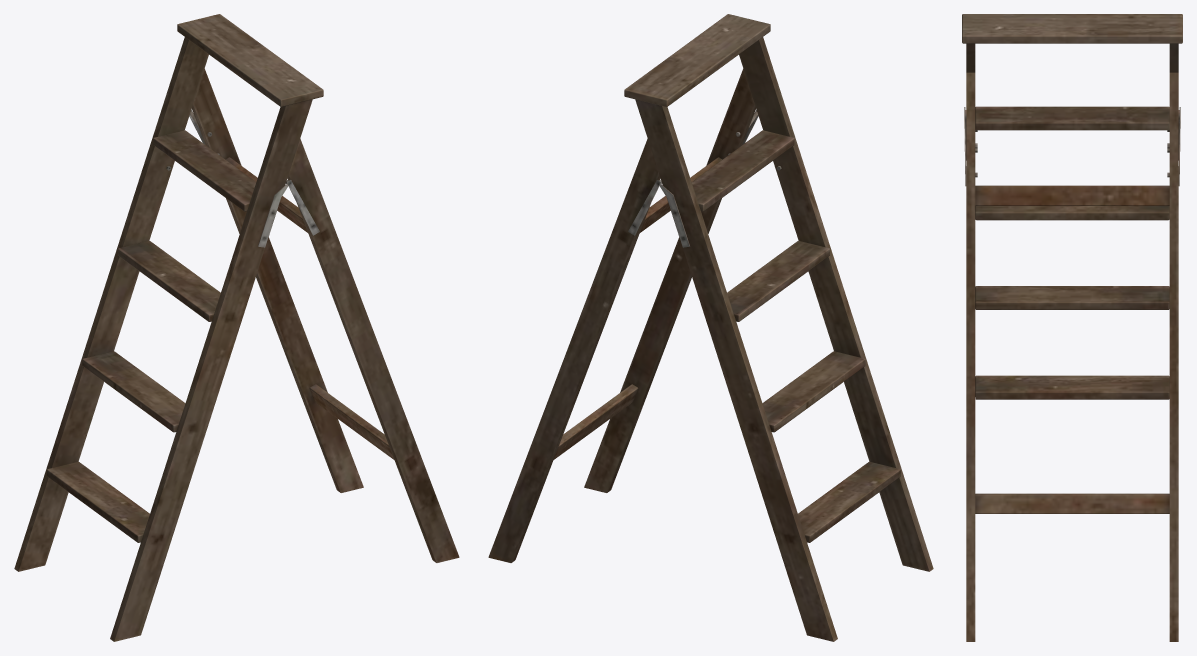
File: ladder.glb
3 renders of one model, left to right at view 1: azimuth 30°, elevation 25°; view 2: azimuth 150°, elevation 25°; view 3: azimuth 270°, elevation 25°, orthographic. The views are drawn at different scales.
Visible parts, largest first — view 1: wooden_ladder_supports; view 2: wooden_ladder_supports; view 3: wooden_ladder_supports.
Part boxes in pixels (left/top/right/bottom): wooden_ladder_supports: left=14, top=14, right=459, bottom=641; wooden_ladder_supports: left=488, top=14, right=933, bottom=641; wooden_ladder_supports: left=962, top=14, right=1182, bottom=641.
Size of the model in its own units: 0.9591 by 1.33 by 0.5.
Materials: 1 (1 with a texture image).
